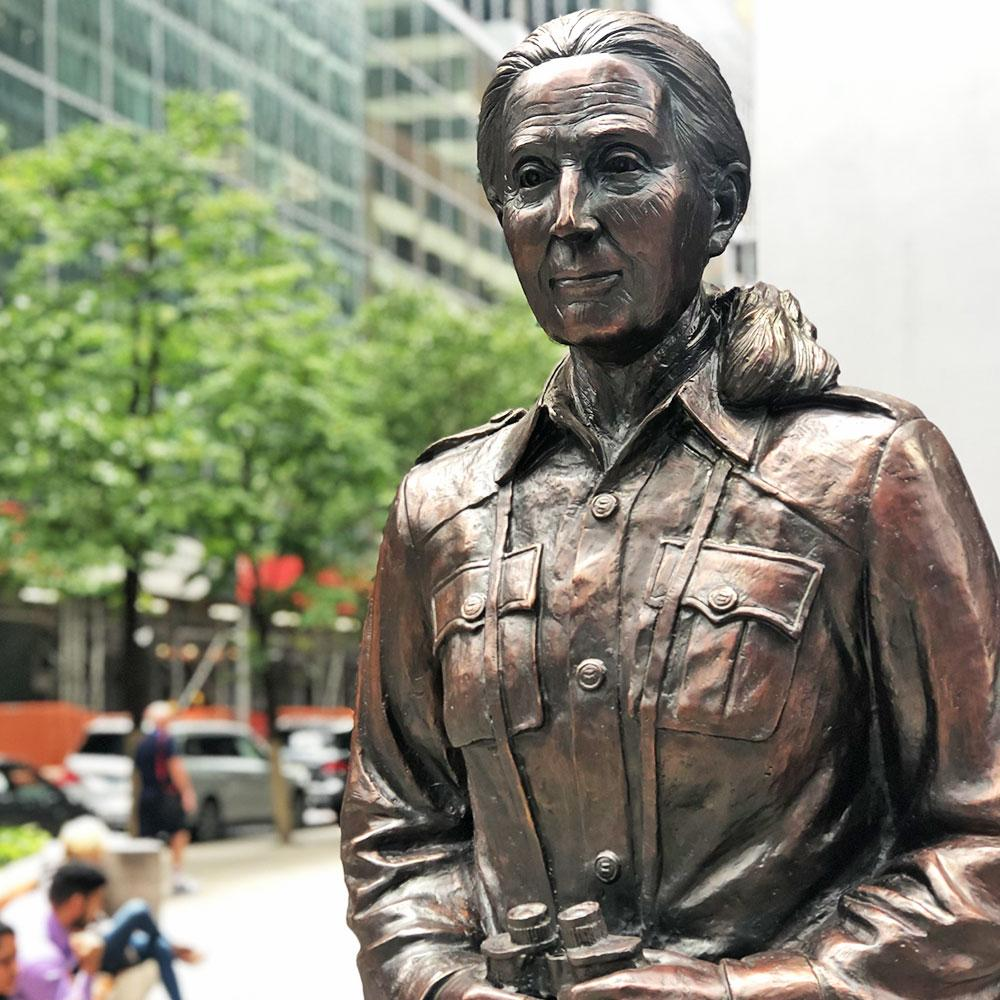person: (23, 866, 109, 1000)
person-like: (327, 3, 997, 1000)
